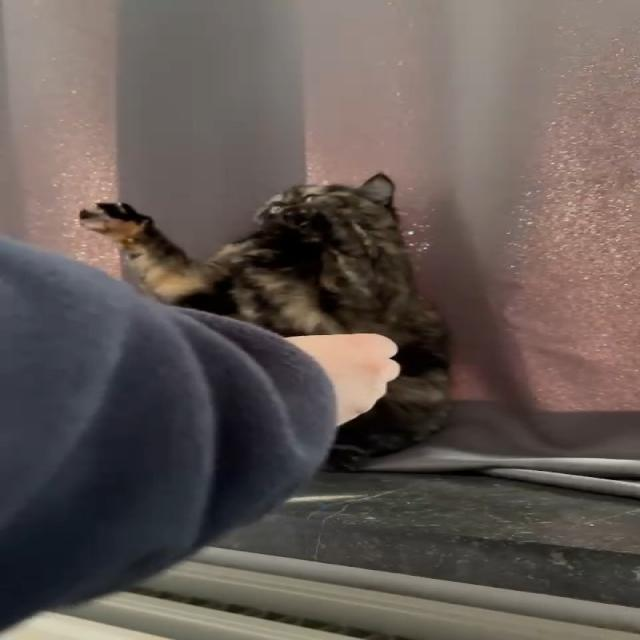authorized: (77, 172, 455, 470)
